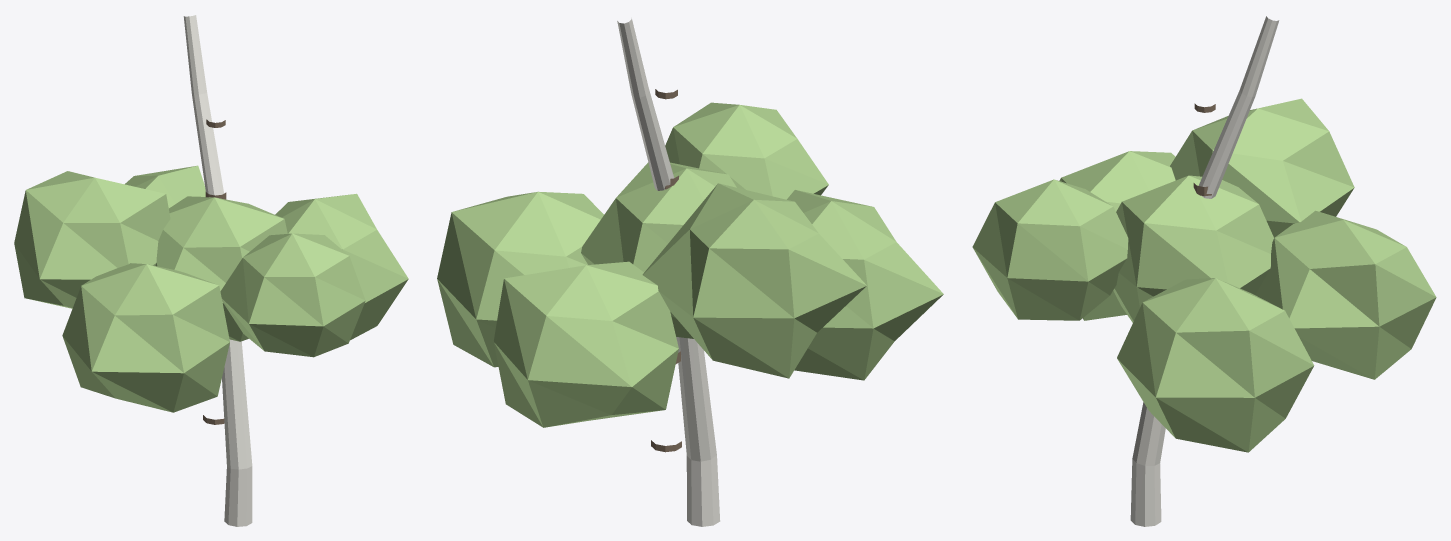
Rendered from nature_birch_leaning.glb.
3 renders of one model, left to right at view 1: azimuth 30°, elevation 25°; view 2: azimuth 150°, elevation 25°; view 3: azimuth 270°, elevation 25°, orthographic. The views are drawn at different scales.
Visible parts, largest first — view 1: world; view 2: world; view 3: world.
Part boxes in pixels (x1=…): world: x1=14, y1=15, x2=408, y2=526; world: x1=437, y1=18, x2=943, y2=526; world: x1=972, y1=16, x2=1436, y2=526.
Size of the model in its own units: 1.58 by 2 by 1.65.
